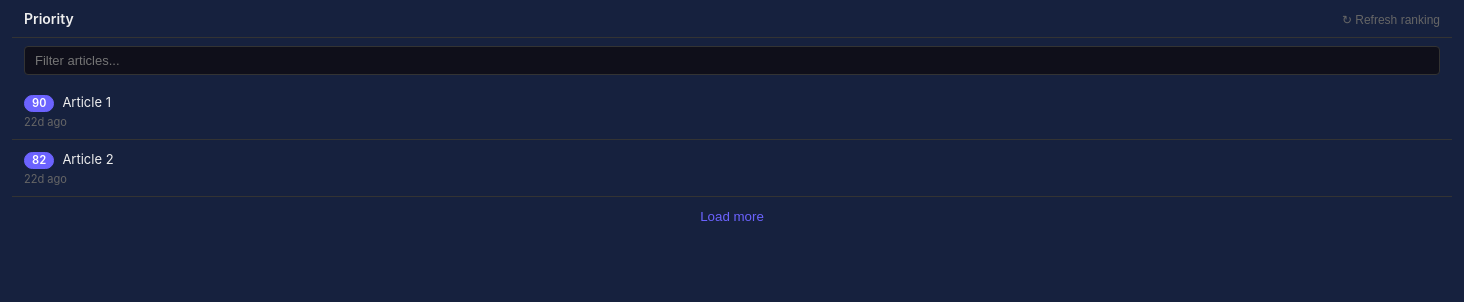
Test: PriorityList › separatorAppearsOnceTheFirstUnscoredRowLoads
Expected: the text "Article 2" is shown, [62,150,114,168]
Step 1. Click the button "Load more" → (732, 216), box [12,197,1452,236]
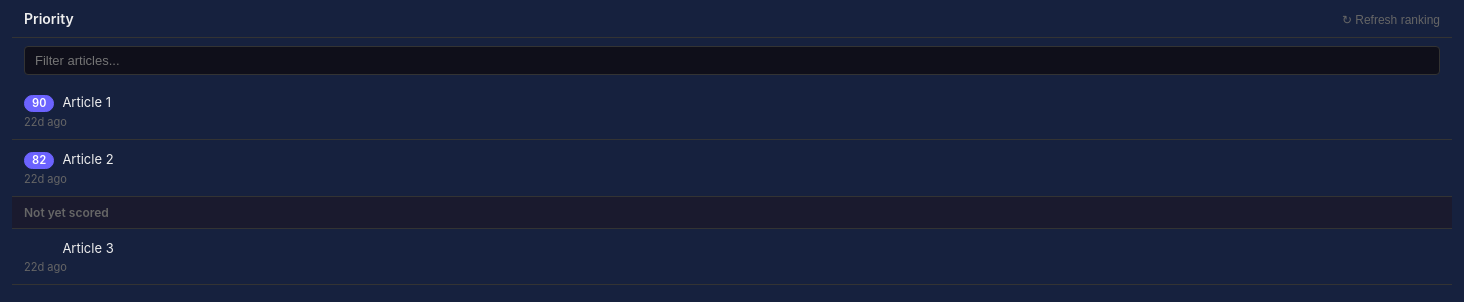
Expected: the text "Article 3" is shown, [62,239,114,257]
Expected: the number of elements "Not yet scored" is 1, [12,197,1452,229]
